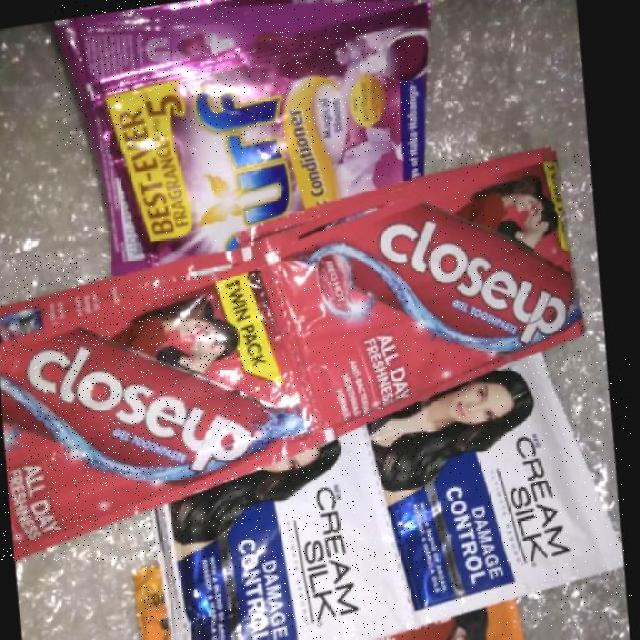wrapper: (2, 254, 335, 561), (274, 149, 591, 442), (89, 5, 427, 276), (368, 353, 632, 626), (162, 429, 427, 639), (56, 0, 412, 154), (390, 598, 534, 640), (141, 566, 180, 639)
